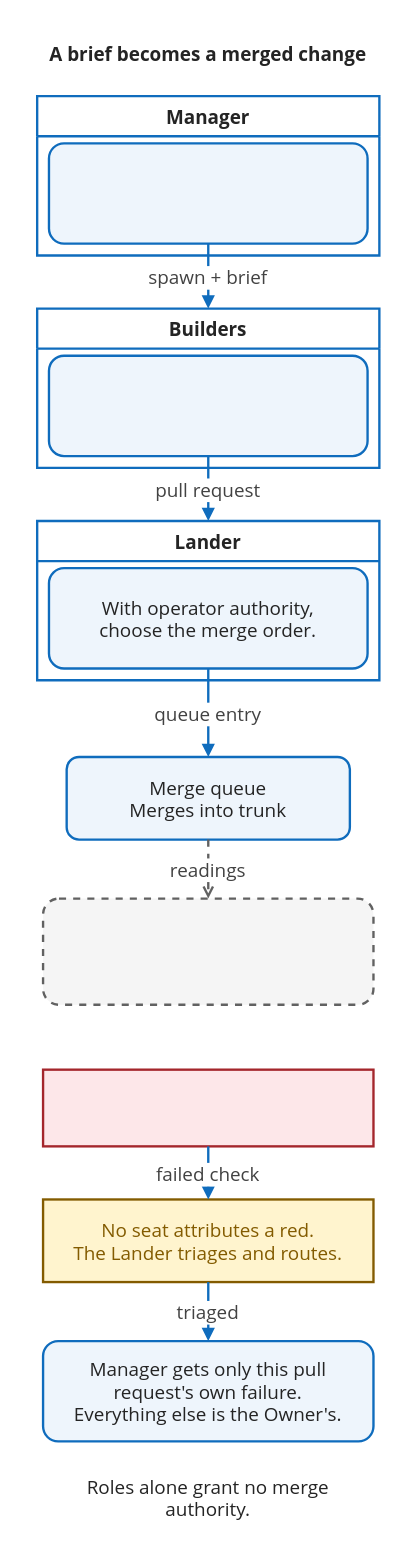
Some shapes in this 417 by 1561 pixel diagram are drawn without their labels. Here are the shapes that lost their labels. From the top down, the centre of each, then its label:
At point (207, 193): "Run one or more builders. Write a brief for each task.".
At point (207, 405): "Subagent or separate session. Own worktree + branch. Build, push, report.".
At point (207, 951): "Watchdog Keeps the Lander draining. Reports a stall; never drains.".
At point (207, 1107): "Failed check on a pull request".
